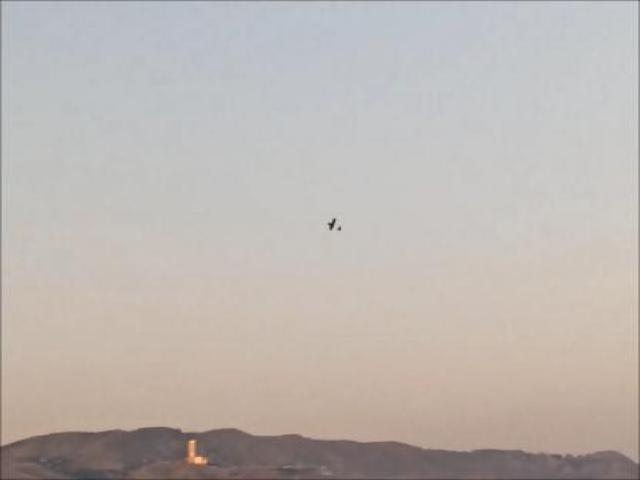uav: (323, 211, 348, 240)
